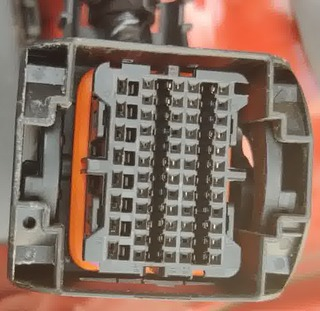connector: (8, 37, 313, 302)
